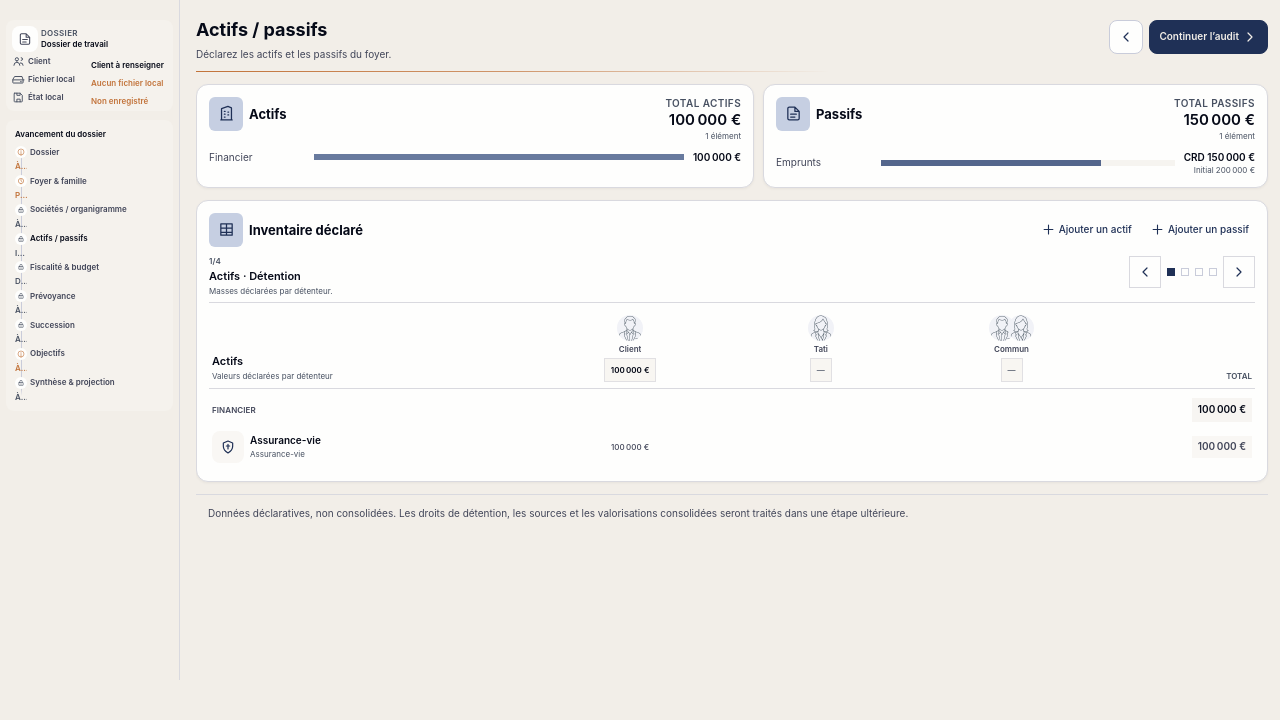
Scenario: ActifsPassifsPage › expose les vues d’analyse actif et de détails crédit sans inventer de qualification
The width and height of the screenshot is (1280, 720).
What coordinates should you click on to do the following:
click the button named "Afficher Actifs · Analyse"
I would click on:
 (1185, 272)
Its box is [1181,268,1189,276].
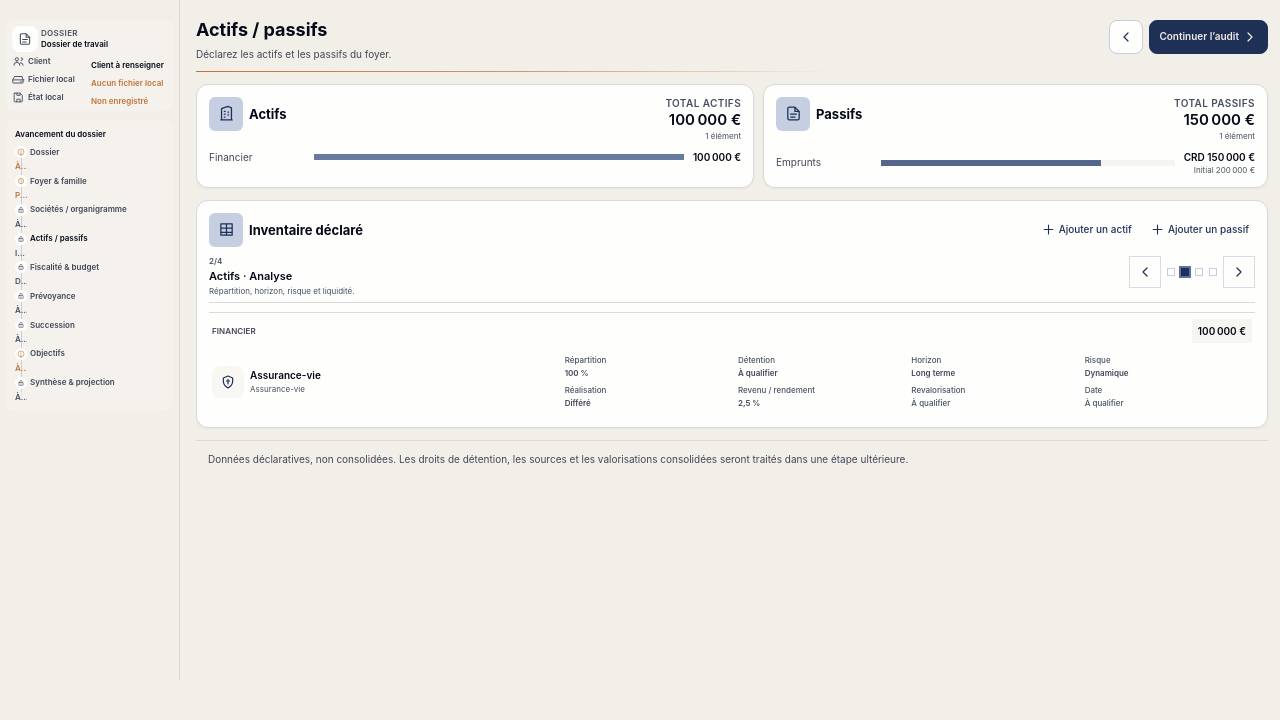
Result: the heading "Actifs · Analyse" is shown at [209,269,292,283]
Result: the text "Long terme" is shown at [911,368,955,378]
Result: the text "Dynamique" is shown at [1085,368,1129,378]
What coordinates should you click on to do the following:
click the button named "Afficher Passifs · Détails crédits"
I would click on:
 (1213, 272)
Its box is [1209,268,1217,276].
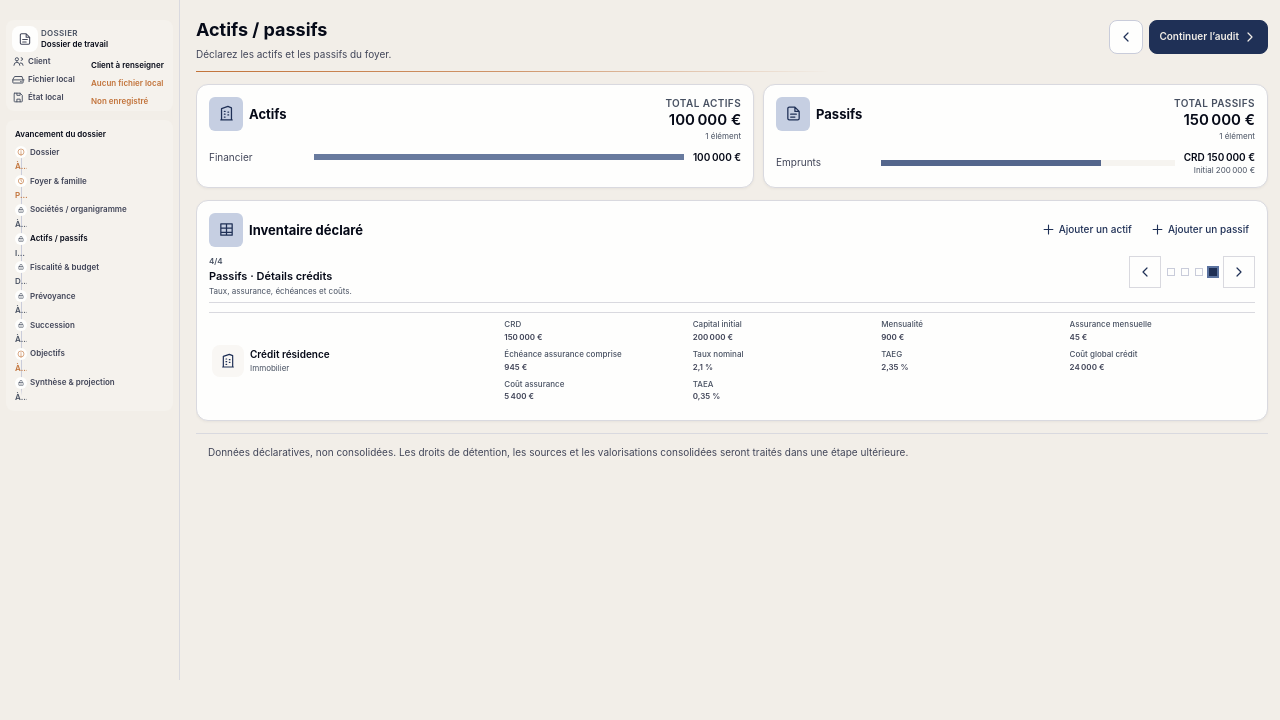
Result: the heading "Passifs · Détails crédits" is shown at [209,269,352,284]
Result: the text "Mensualité" is shown at [881,319,923,329]
Result: the text "945 €" is shown at [504,362,527,372]
